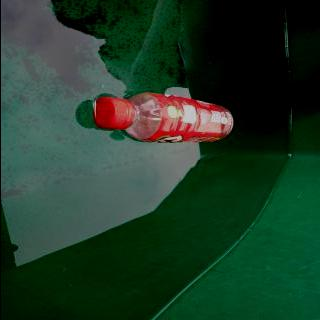bottle: (92, 93, 236, 143)
